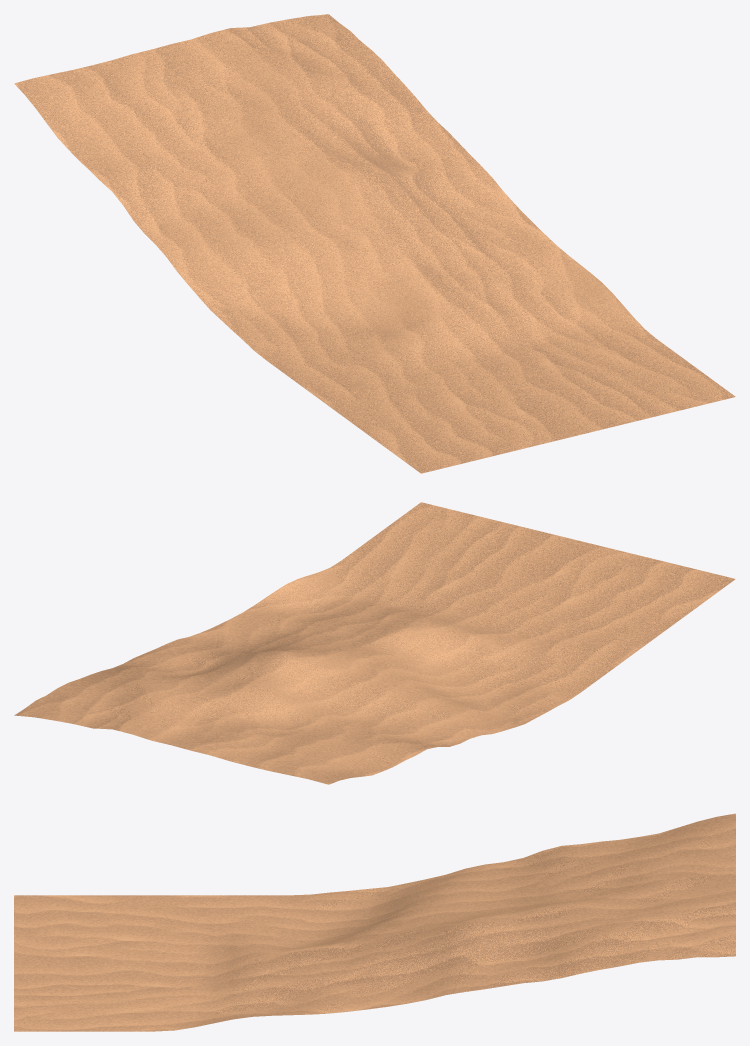
Rendered from map_4.gltf.
The picture shows the model from 3 angles, top to bottom: view 1: azimuth 30°, elevation 25°; view 2: azimuth 150°, elevation 25°; view 3: azimuth 270°, elevation 25°; orthographic projection. The views are drawn at different scales.
Parts seen in each view (by area): view 1: landscape5; view 2: landscape5; view 3: landscape5.
Boxes of the visible parts, x1,y1,x2,y2 form: landscape5: (14,14,735,473); landscape5: (14,502,735,784); landscape5: (14,813,735,1031).
Size of the model in its own units: 9.38 by 2.7 by 21.
Materials: 1 (1 with a texture image).
